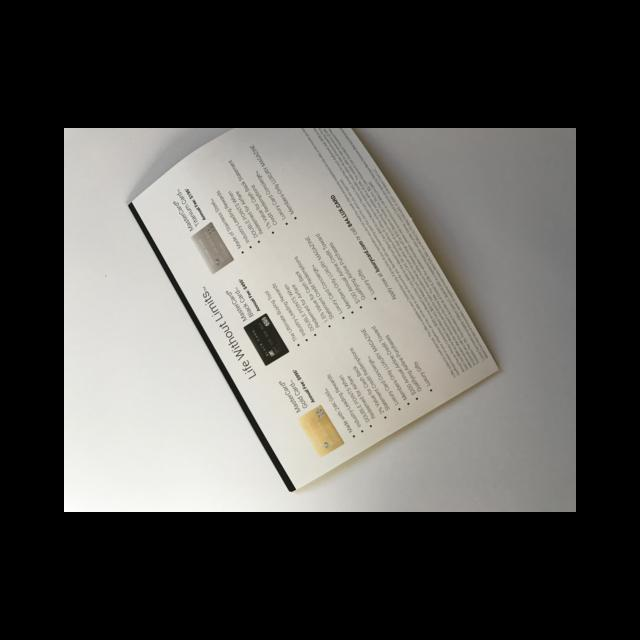paper: (126, 128, 497, 491)
